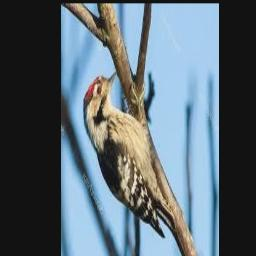Woodpecker: (83, 71, 176, 238)
